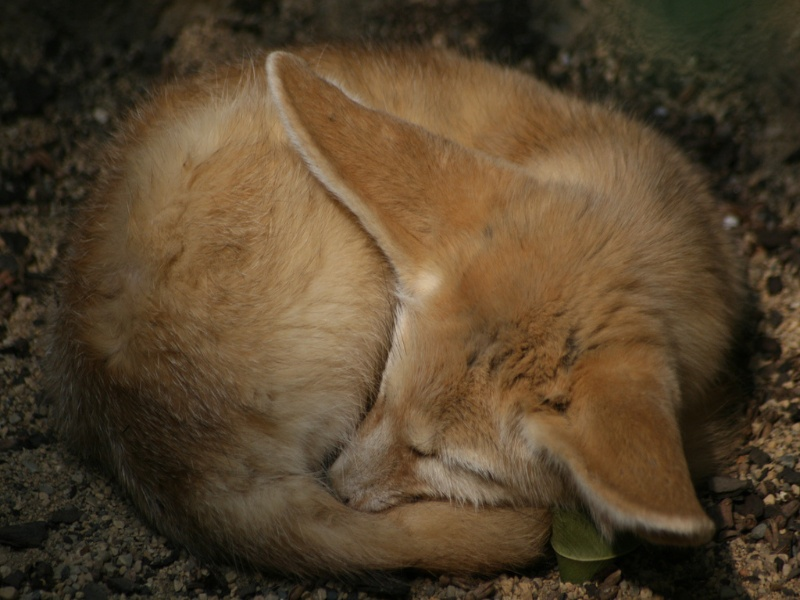fox: (52, 34, 742, 580)
